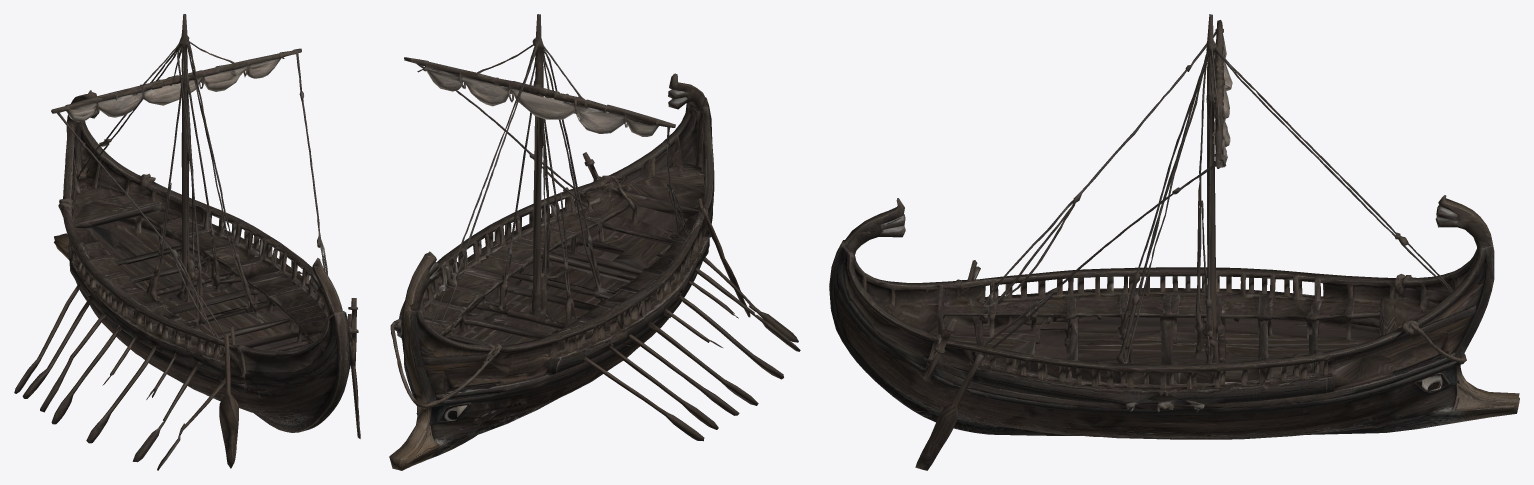
Rendered from nave_achea.gltf.
3 renders of one model, left to right at view 1: azimuth 30°, elevation 25°; view 2: azimuth 150°, elevation 25°; view 3: azimuth 270°, elevation 25°, orthographic. The views are drawn at different scales.
Visible parts, largest first — view 1: Mesh_0; view 2: Mesh_0; view 3: Mesh_0.
Boxes of the visible parts, <box> form: Mesh_0: <box>14,14,360,470</box>; Mesh_0: <box>389,14,800,470</box>; Mesh_0: <box>829,14,1519,470</box>.
Bounding box in the file's own units: 6.97 × 8.08 × 12.
1 material, 1 textured.
